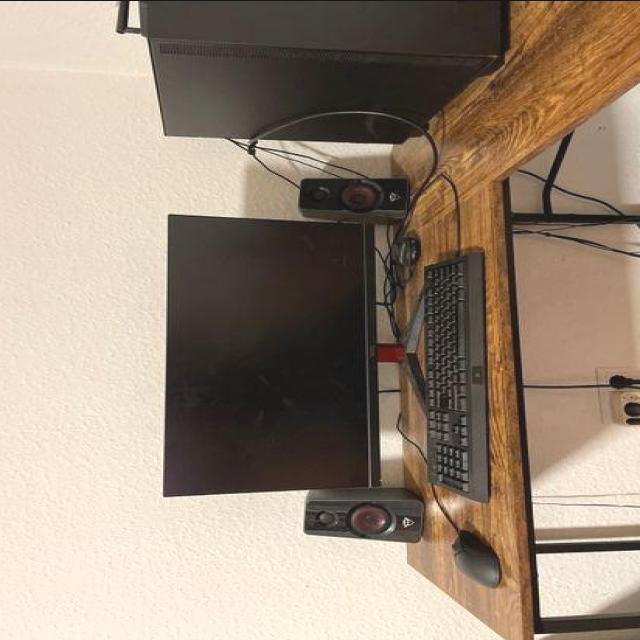keyboard: (418, 247, 491, 504)
